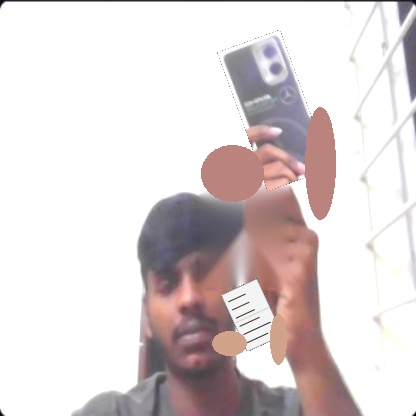cell_phone: (217, 30, 330, 191)
cheat_chit: (221, 278, 283, 351)
